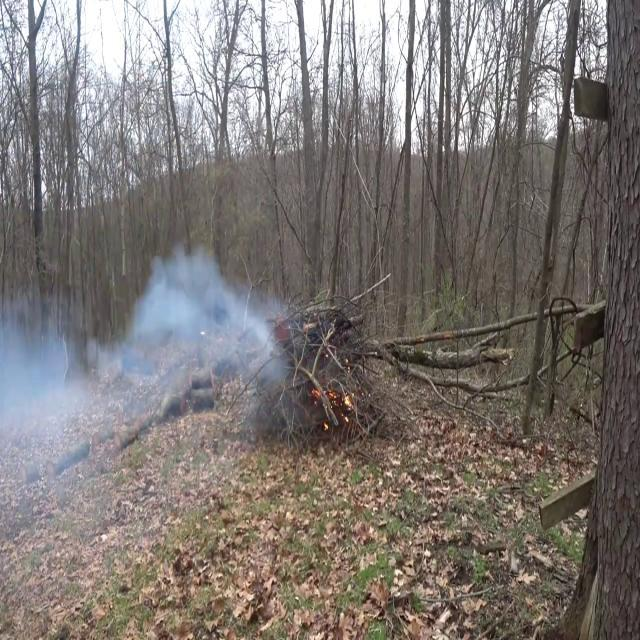Smoke: (116, 220, 292, 424), (0, 284, 84, 532), (0, 285, 77, 472)
